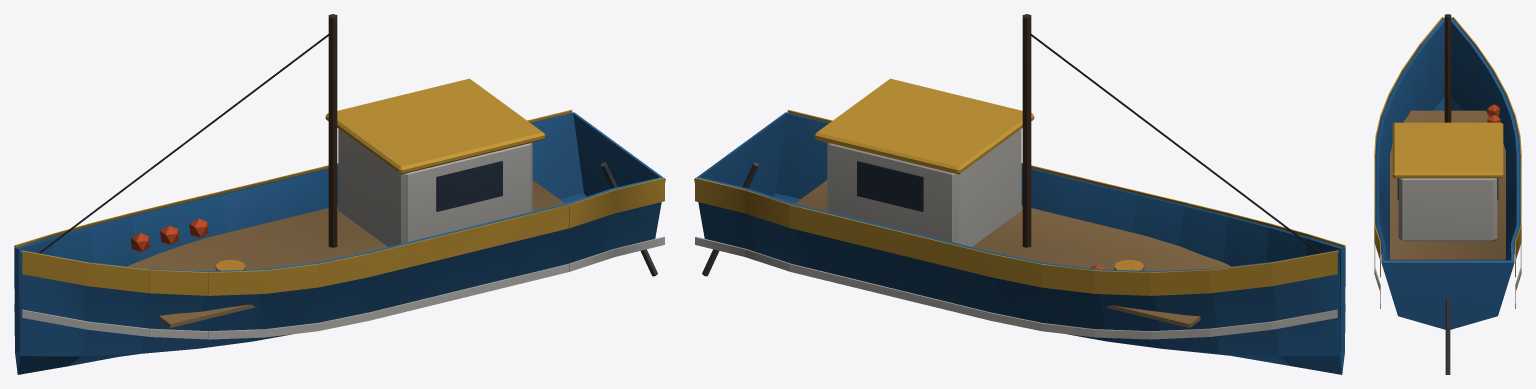
File: mi_fboat_a-DWUoaM8V.glb
The picture shows the model from 3 angles, left to right: view 1: azimuth 30°, elevation 25°; view 2: azimuth 150°, elevation 25°; view 3: azimuth 270°, elevation 25°; orthographic projection. The views are drawn at different scales.
Bounding box in the file's own units: 8.74 × 4.42 × 2.4.
